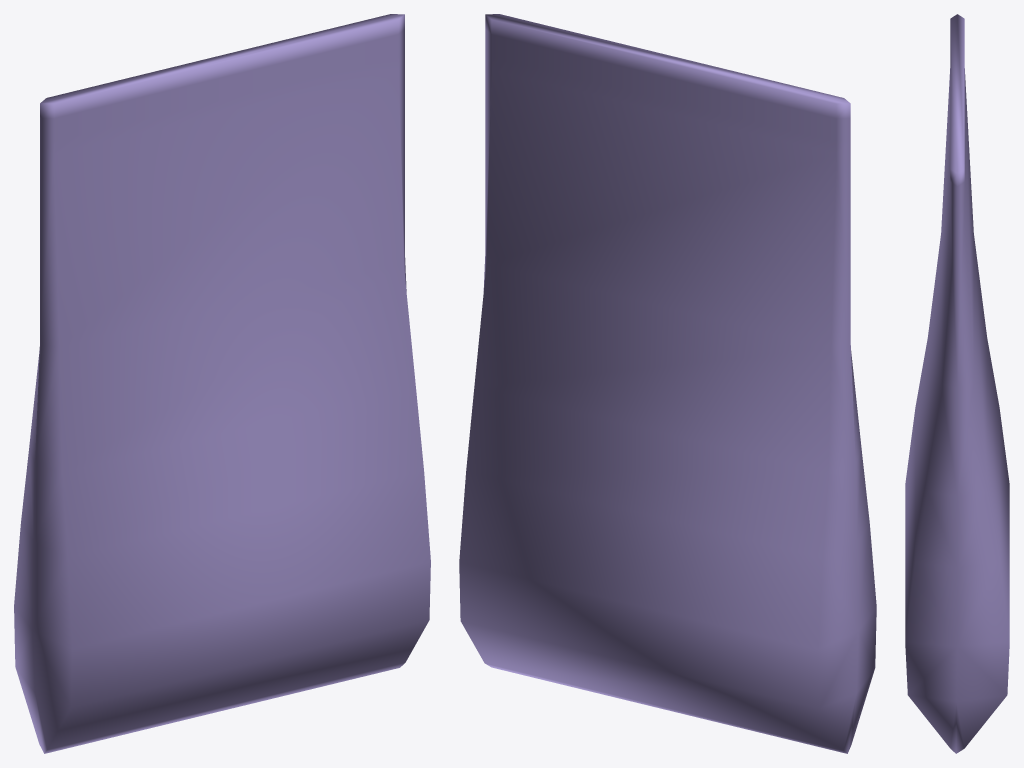
Rendered from shrooms.FBX.
The picture shows the model from 3 angles, left to right: view 1: azimuth 30°, elevation 25°; view 2: azimuth 150°, elevation 25°; view 3: azimuth 270°, elevation 25°; orthographic projection. The views are drawn at different scales.
Visible parts, largest first — view 1: shrooms; view 2: shrooms; view 3: shrooms.
Boxes of the visible parts, left/top/right/bottom form: shrooms: left=14, top=14, right=430, bottom=753; shrooms: left=459, top=14, right=876, bottom=753; shrooms: left=905, top=14, right=1009, bottom=753.
Bounding box in the file's own units: 10.15 × 16.63 × 2.7.
